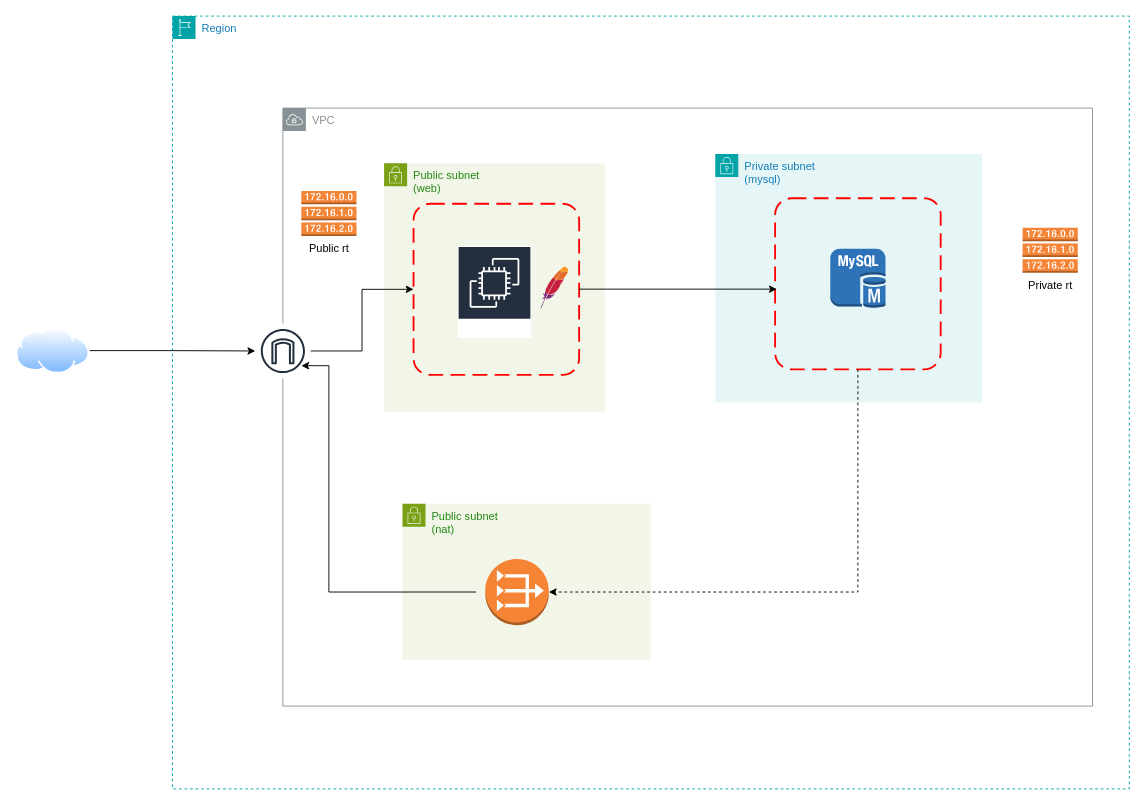
The diagram is 1145 pixels wide and 805 high, and some of its shapes have lost their labels. The shapes that lost their labels are listed below. From the top down, each one's centre as x and y in pixels, then its label:
the point at 494,291: Amazon EC2
the point at 282,350: Internet gateway
